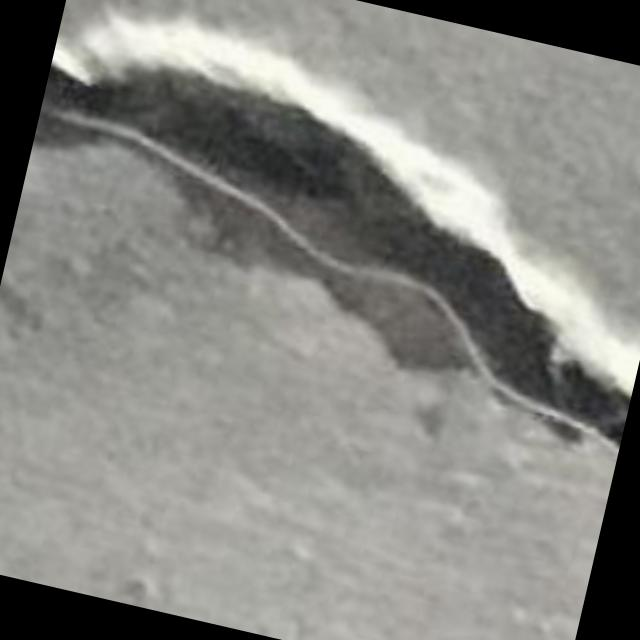crack: (33, 19, 639, 447)
